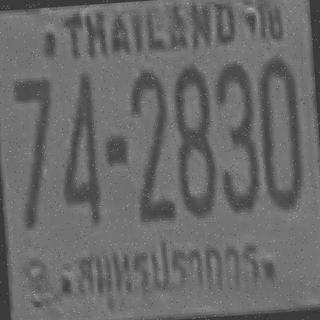N00: (256, 54, 303, 208)
N02: (126, 69, 173, 209)
N03: (213, 60, 260, 211)
N04: (52, 71, 102, 225)
N07: (11, 75, 58, 226)
N08: (169, 63, 216, 217)
P57: (68, 230, 267, 301)
